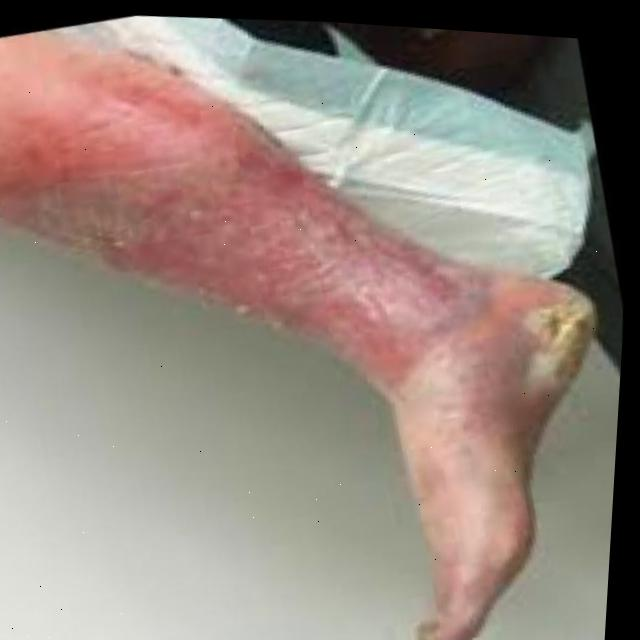Eczema: (62, 119, 444, 367), (525, 304, 579, 396)
